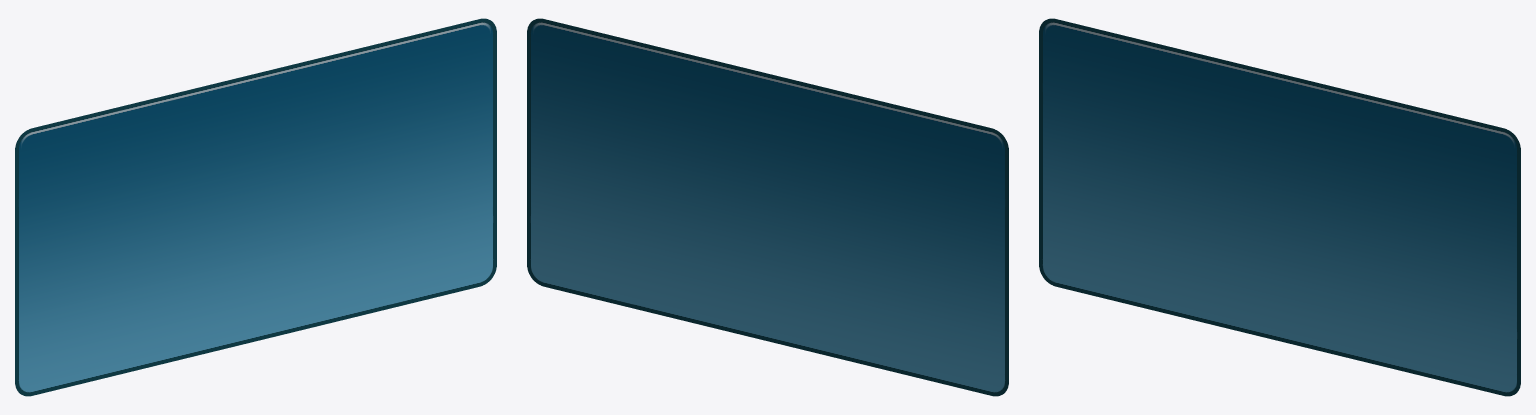
File: nocoins.fbx
3 renders of one model, left to right at view 1: azimuth 30°, elevation 25°; view 2: azimuth 150°, elevation 25°; view 3: azimuth 330°, elevation 25°, orthographic.
Visible parts, largest first — view 1: smallwindow2; view 2: smallwindow2; view 3: smallwindow2.
Boxes of the visible parts, x1,y1,x2,y2 form: smallwindow2: (15, 18, 496, 396); smallwindow2: (527, 18, 1008, 396); smallwindow2: (1039, 18, 1520, 396).
Bounding box in the file's own units: 737 × 392 × 4.27e-14.
